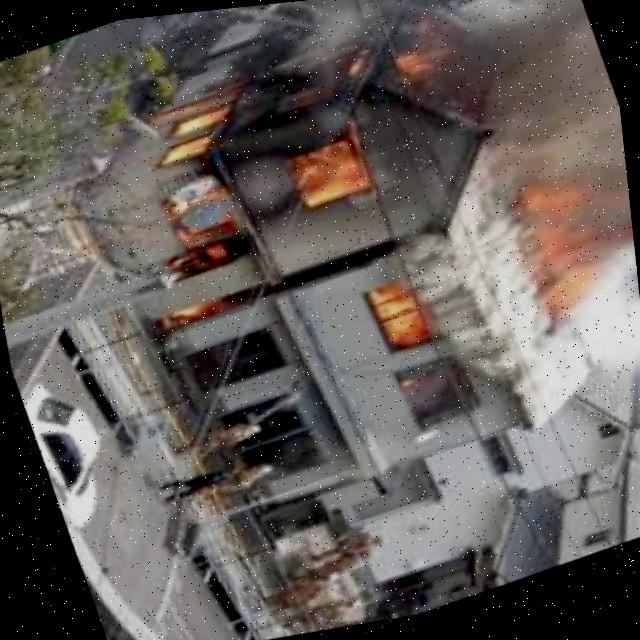fire: (81, 0, 491, 301), (484, 149, 640, 334), (346, 269, 438, 377)
